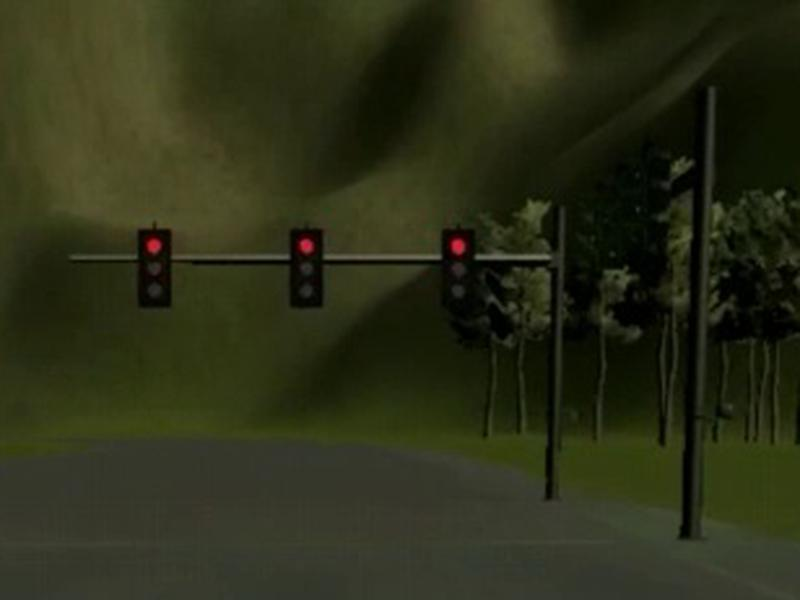Red: (137, 228, 170, 307), (443, 229, 476, 306), (290, 229, 322, 307)
